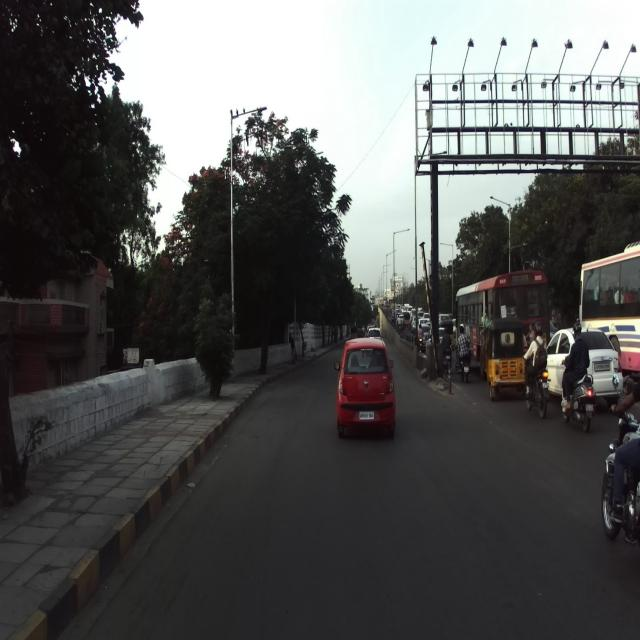bus: (453, 269, 551, 378)
car: (334, 335, 396, 440)
motorcycle: (600, 372, 640, 545)
scooter: (560, 358, 597, 432)
